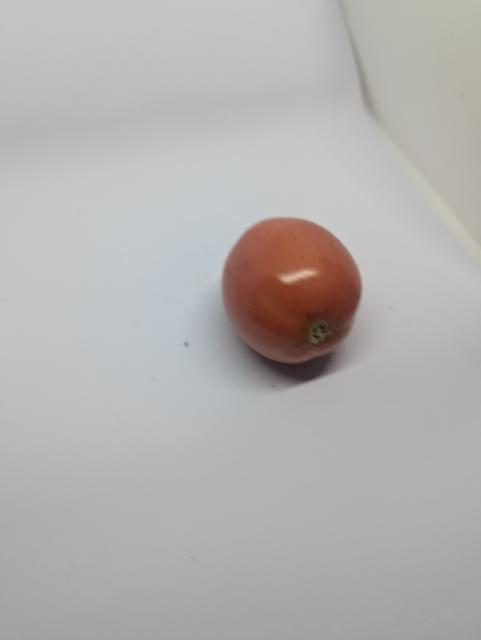red: (206, 210, 378, 375)
